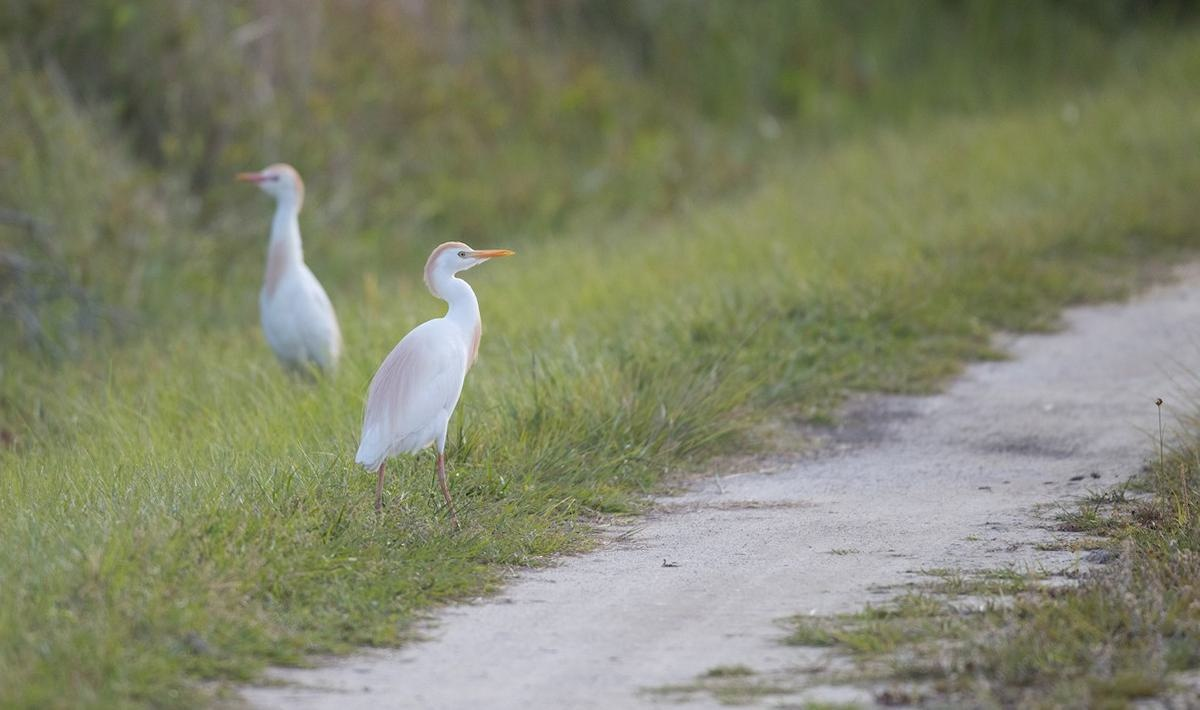egret: (337, 223, 523, 525), (236, 164, 361, 399)
